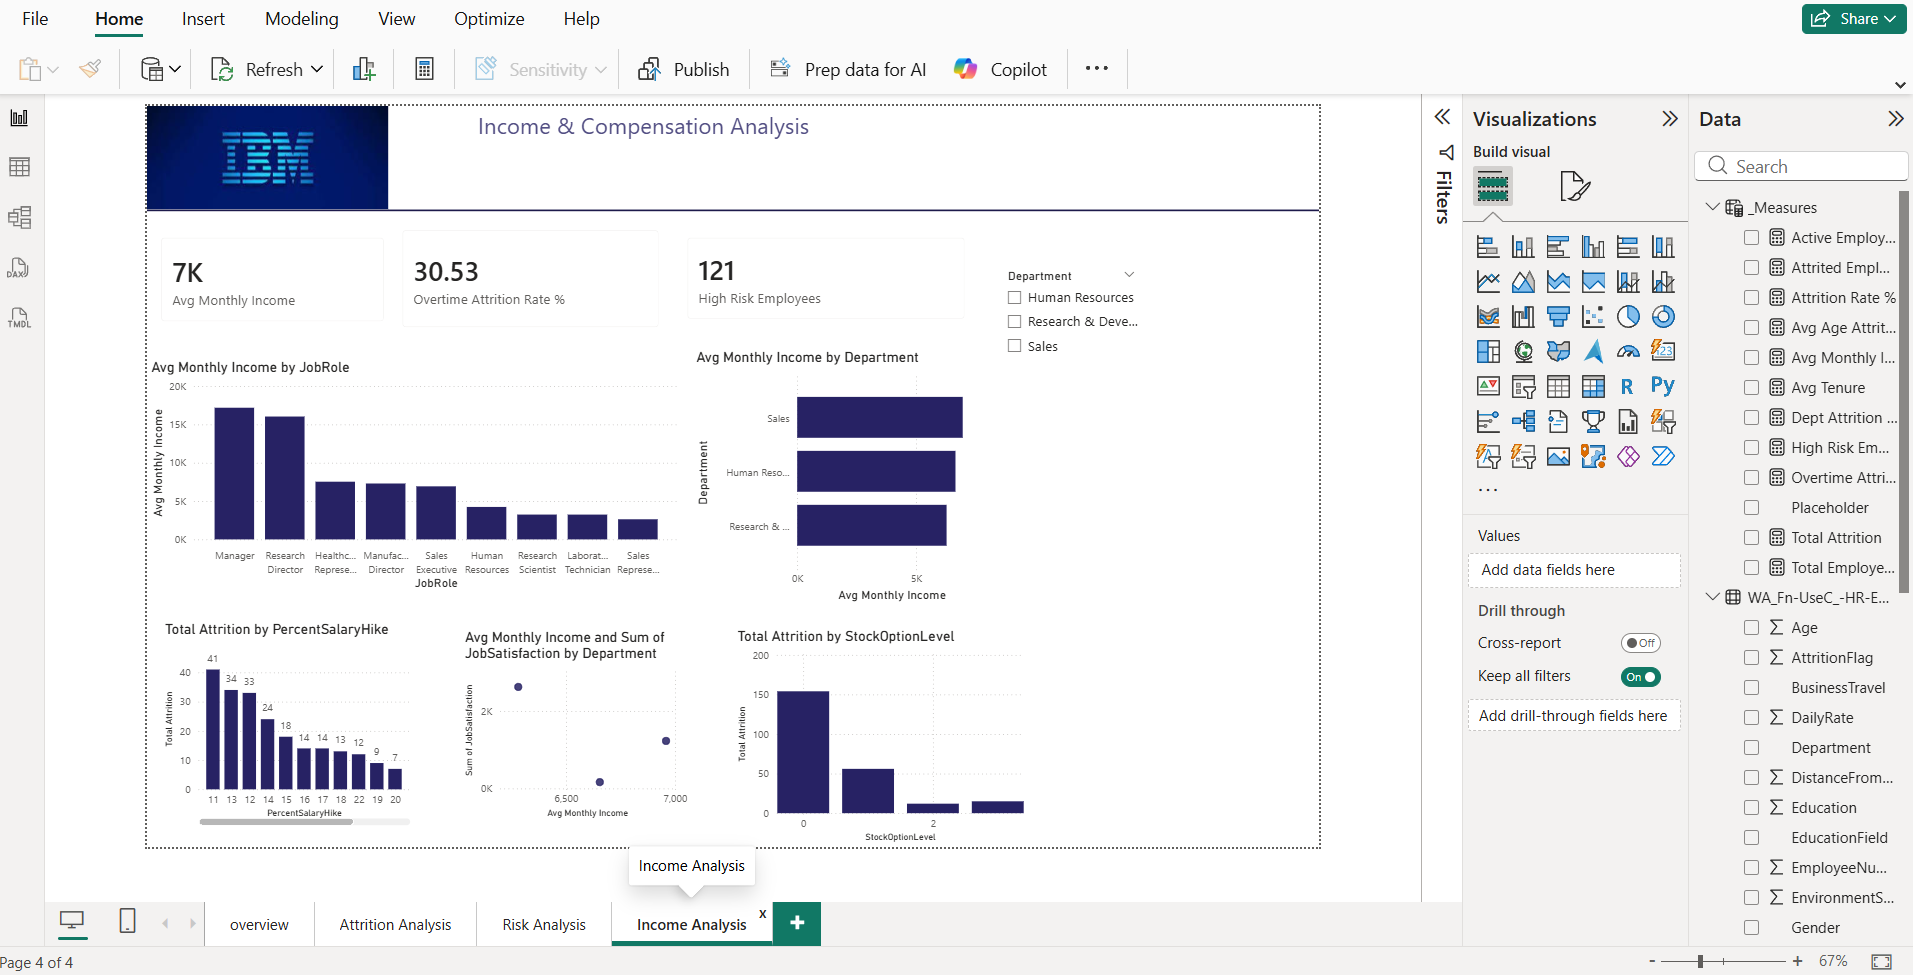

This screenshot's page, from the dashboard's own definition file:
{"tool":"powerbi","page":{"name":"Income Analysis","canvas":[1400,885],"ordinal":3},"visuals":[{"type":"clusteredColumnChart","fields":{"Category":["WA_Fn-UseC_-HR-Employee-Attrition.JobRole"],"Y":["_Measures.Avg Monthly Income"]},"box":[0,302,640,281],"z":0},{"type":"clusteredBarChart","fields":{"Category":["WA_Fn-UseC_-HR-Employee-Attrition.Department"],"Y":["_Measures.Avg Monthly Income"]},"box":[650,289,365,307],"z":1000},{"type":"clusteredColumnChart","fields":{"Category":["WA_Fn-UseC_-HR-Employee-Attrition.PercentSalaryHike"],"Y":["_Measures.Total Attrition"]},"box":[17,615,303,249],"z":2000},{"type":"scatterChart","fields":{"X":["_Measures.Avg Monthly Income"],"Y":["Sum(WA_Fn-UseC_-HR-Employee-Attrition.JobSatisfaction)"],"Category":["WA_Fn-UseC_-HR-Employee-Attrition.Department"]},"box":[374,624,276,231],"z":3000},{"type":"clusteredColumnChart","fields":{"Category":["WA_Fn-UseC_-HR-Employee-Attrition.StockOptionLevel"],"Y":["_Measures.Total Attrition"]},"box":[700,623,352,262],"z":4000},{"type":"cardVisual","fields":{"Data":["_Measures.Avg Monthly Income"]},"box":[0,140,300,134],"z":5000},{"type":"cardVisual","fields":{"Data":["_Measures.Overtime Attrition Rate %"]},"box":[288,132,340,150],"z":6000},{"type":"cardVisual","fields":{"Data":["_Measures.High Risk Employees"]},"box":[628,141,365,131],"z":7000},{"type":"slicer","fields":{"Values":["WA_Fn-UseC_-HR-Employee-Attrition.Department"]},"box":[1015,189,177,307],"z":8000},{"type":"textbox","box":[288,0,1112,122],"z":9000},{"type":"image","box":[0,0,288,123],"z":10000},{"type":"shape","box":[0,0,1400,249.3],"z":11000}]}

Visuals, with their boxes on the page's 1400x885 design canvas (x1, y1, x2, y2). These are canvas units, not pixel positions in the 1913x975 screenshot, which may show the page scaled, cropped or inside an application window:
clusteredColumnChart - WA_Fn-UseC_-HR-Employee-Attrition.JobRole x _Measures.Avg Monthly Income: 0,302,640,583
clusteredBarChart - WA_Fn-UseC_-HR-Employee-Attrition.Department x _Measures.Avg Monthly Income: 650,289,1015,596
clusteredColumnChart - WA_Fn-UseC_-HR-Employee-Attrition.PercentSalaryHike x _Measures.Total Attrition: 17,615,320,864
scatterChart - _Measures.Avg Monthly Income x Sum(WA_Fn-UseC_-HR-Employee-Attrition.JobSatisfaction): 374,624,650,855
clusteredColumnChart - WA_Fn-UseC_-HR-Employee-Attrition.StockOptionLevel x _Measures.Total Attrition: 700,623,1052,885
cardVisual - _Measures.Avg Monthly Income: 0,140,300,274
cardVisual - _Measures.Overtime Attrition Rate %: 288,132,628,282
cardVisual - _Measures.High Risk Employees: 628,141,993,272
slicer - WA_Fn-UseC_-HR-Employee-Attrition.Department: 1015,189,1192,496
textbox: 288,0,1400,122
image: 0,0,288,123
shape: 0,0,1400,249
